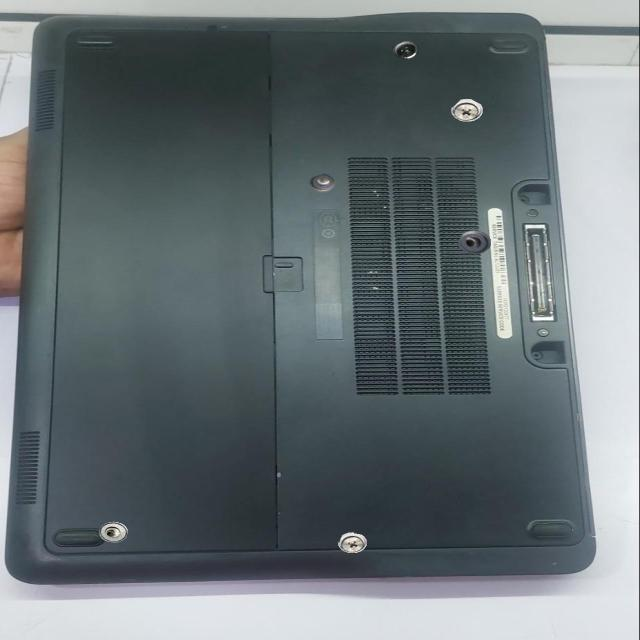lock: (451, 98, 483, 122), (338, 532, 367, 553), (392, 40, 418, 60)
missing_screw: (458, 230, 491, 254), (99, 522, 128, 542), (309, 173, 335, 192)
